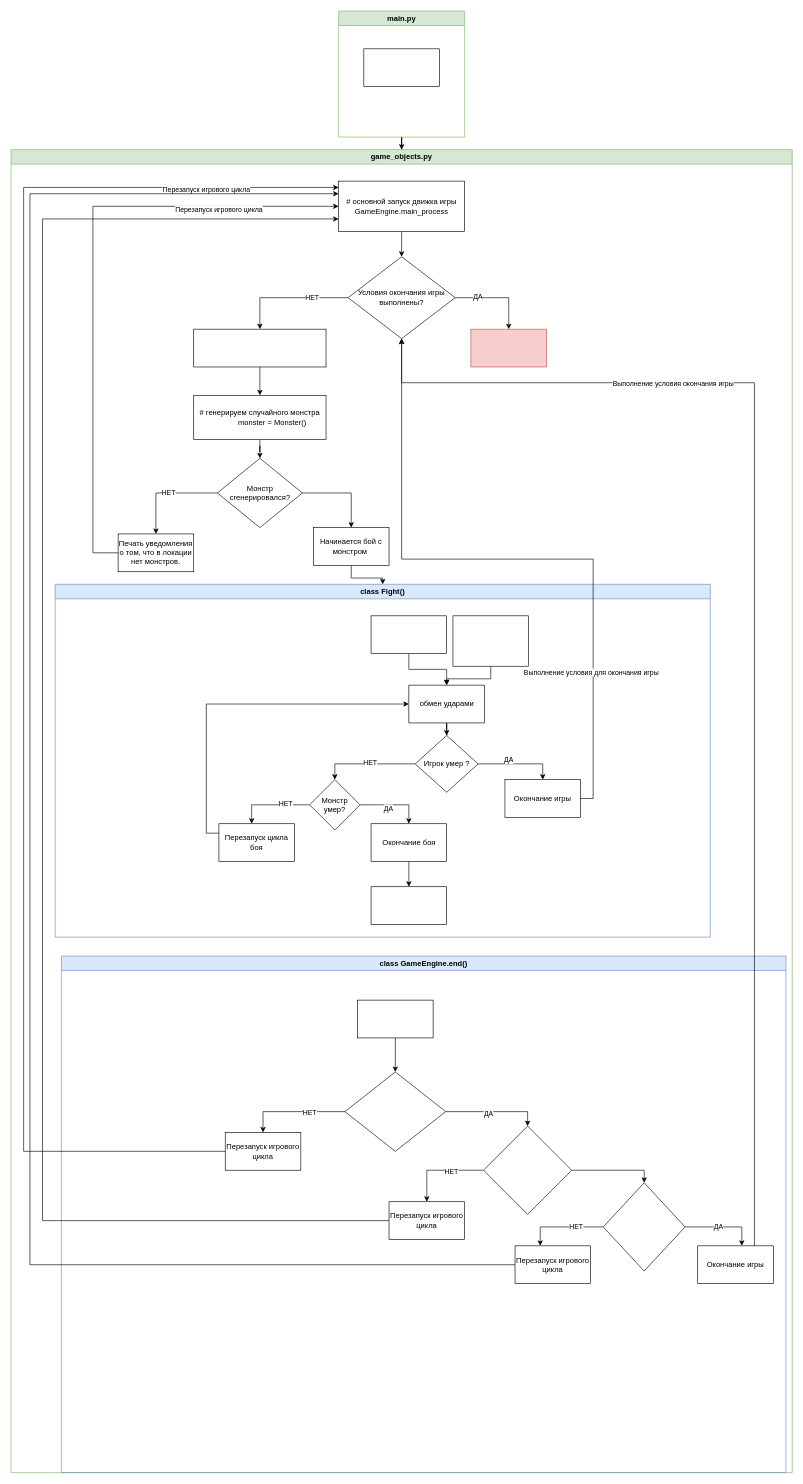
The diagram is 803 pixels wide and 1484 high, and some of its shapes have lost their labels. The shapes that lost their labels are listed below. From the top down, each one's centre as x and y in pixels, then its label:
At (x=401, y=67): "# запуск игры GameEngine.start()".
At (x=259, y=348): "# генерируем случайную локацию local = Locals()".
At (x=508, y=348): "Конец игры".
At (x=408, y=634): "Пользователь определяет цель для атаки и цель для защиты".
At (x=490, y=640): "Рандомное определение для цели атаки и цели для защиты для монстра".
At (x=408, y=905): "Получение предмета".
At (x=395, y=1018): "Проверка условий окончание игры".
At (x=395, y=1111): "Игрок находится в локации Вход на кладбище?".
At (x=527, y=1169): "У игрока есть ключ от кладбища?".
At (x=644, y=1226): "Игрок хочет покинуть кладбище?".
